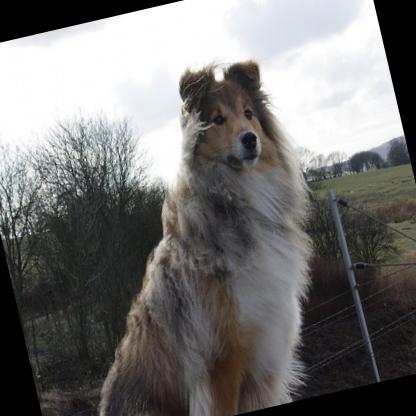Shetland_sheepdog: (20, 30, 355, 416)
